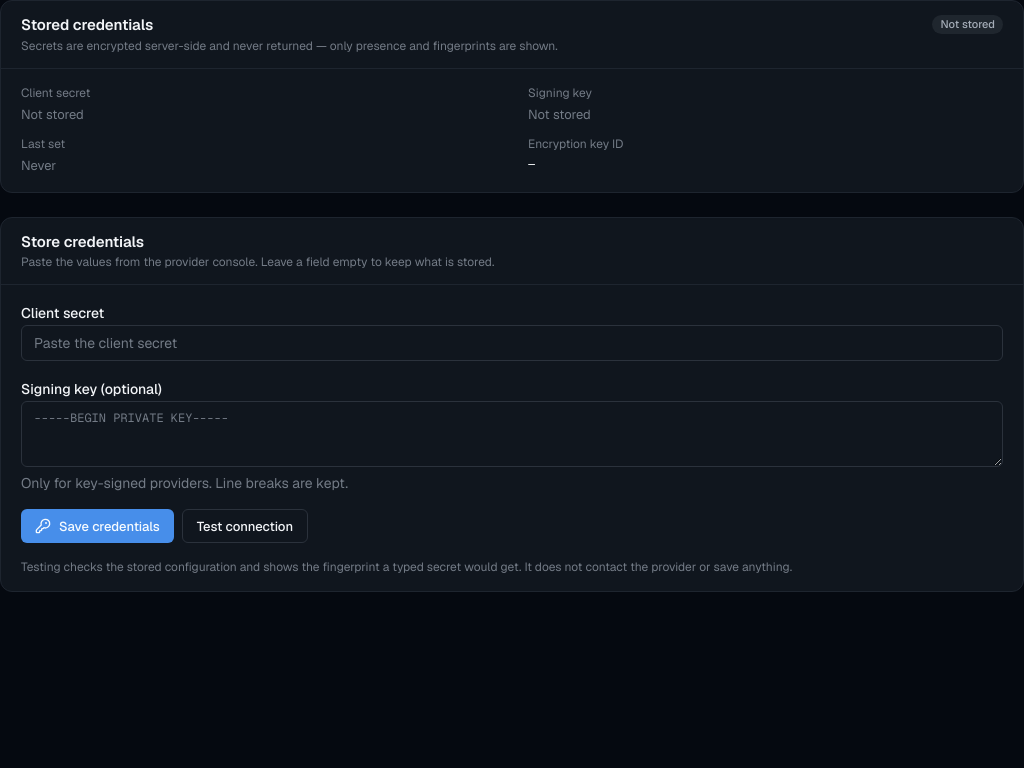
OAuthCredentialsTab › lists the problems of an invalid configuration
The width and height of the screenshot is (1024, 768).
Click the button "Test connection".
click(245, 526)  # box [182, 509, 308, 543]
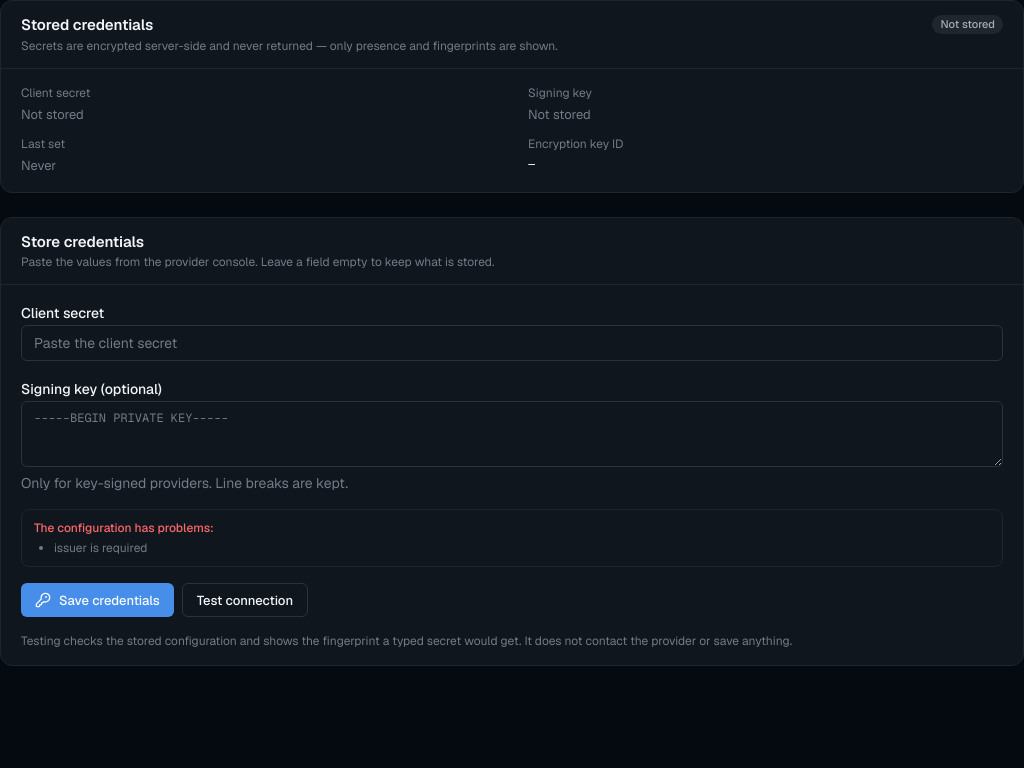
Now the list item "issuer is required" is shown, box [54, 540, 147, 556]
